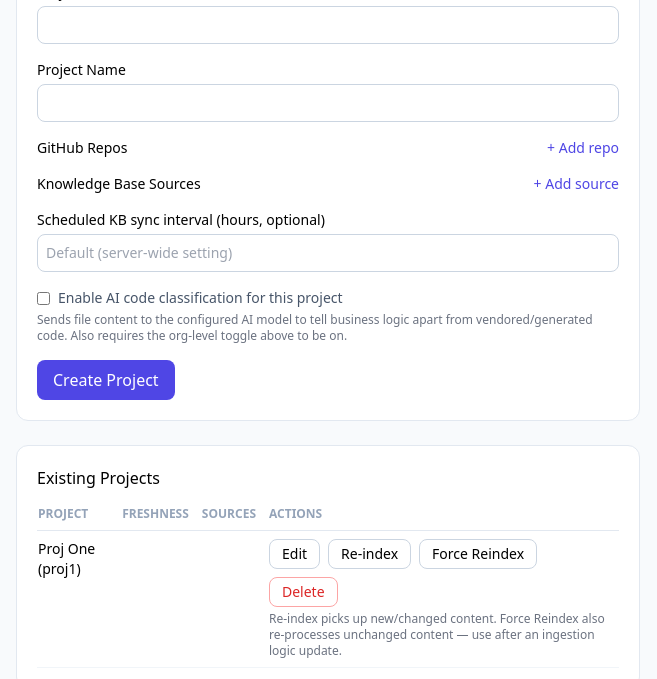
SettingsProjectsPage › requires only name (not id) when editing an existing project
(page scrolled)
Click the button "Edit" at (295, 554), box [269,539,320,569]
(page scrolled)
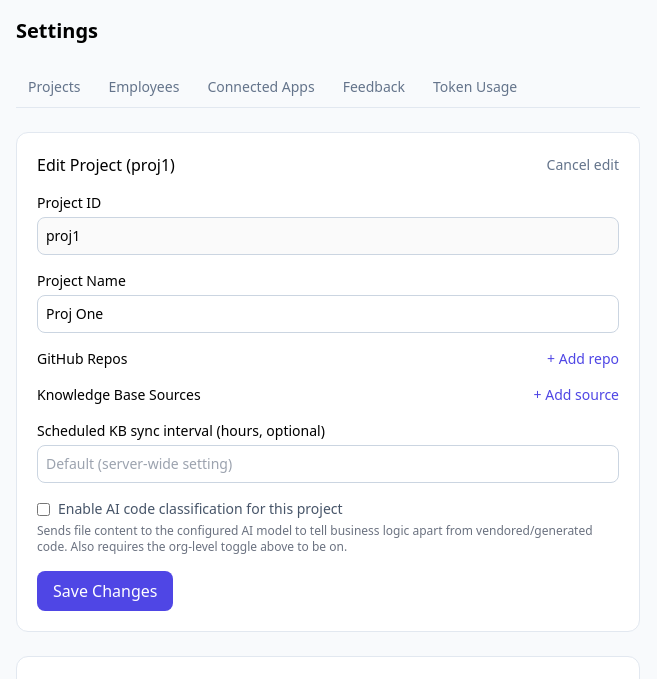
Clear the field labelled "Project Name" at (328, 314), box [37,295,619,333]
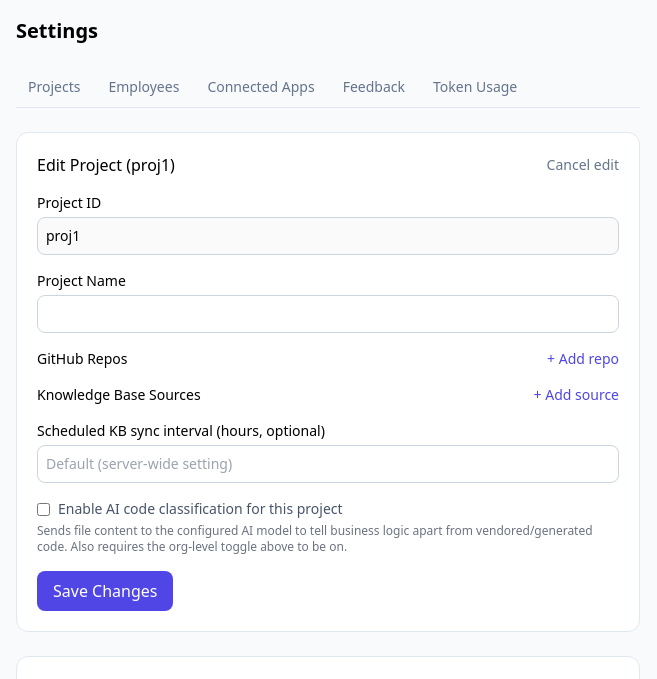
Click the button "Save Changes" at (105, 591), box [37,571,174,611]
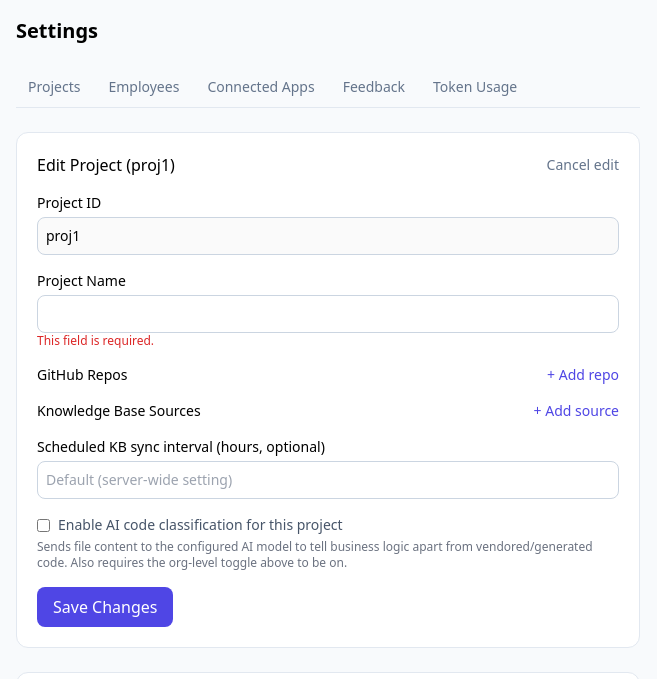
Check: the text "This field is required." is shown once, box [37,332,154,349]
